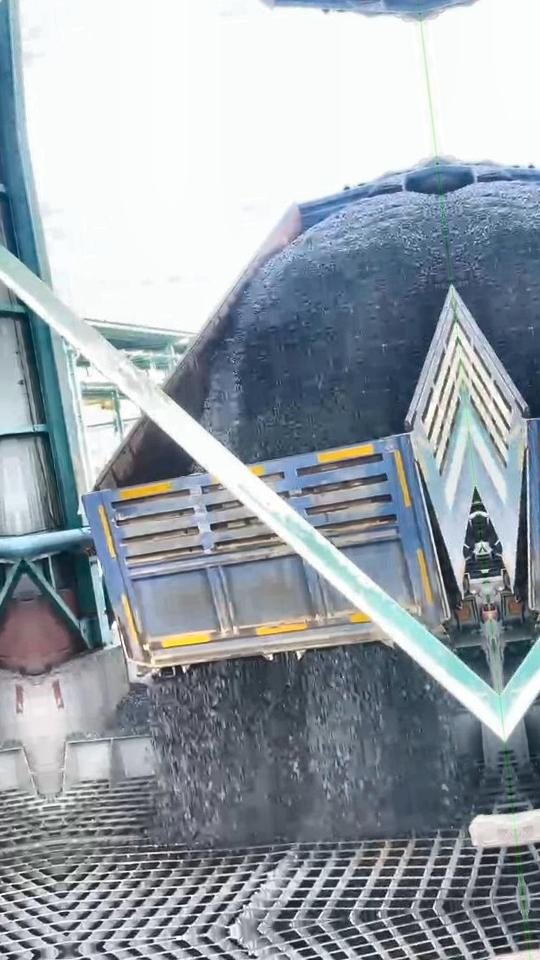gravel: (202, 192, 449, 462), (150, 645, 466, 846), (68, 683, 151, 740)
